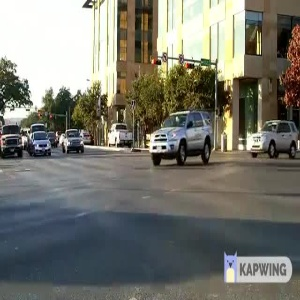suv: (137, 109, 215, 173), (237, 117, 300, 158)
truck: (103, 110, 137, 151), (1, 124, 27, 156)
